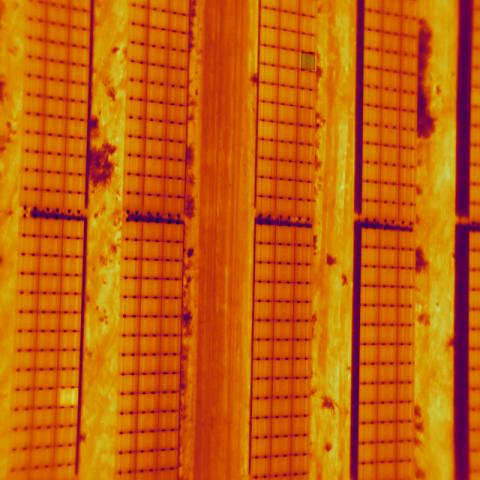fault: (60, 388, 78, 407), (301, 52, 315, 70)
